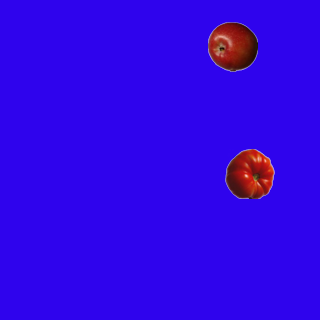Apple Braeburn: (207, 21, 257, 71)
Tomato 3: (224, 148, 274, 198)
